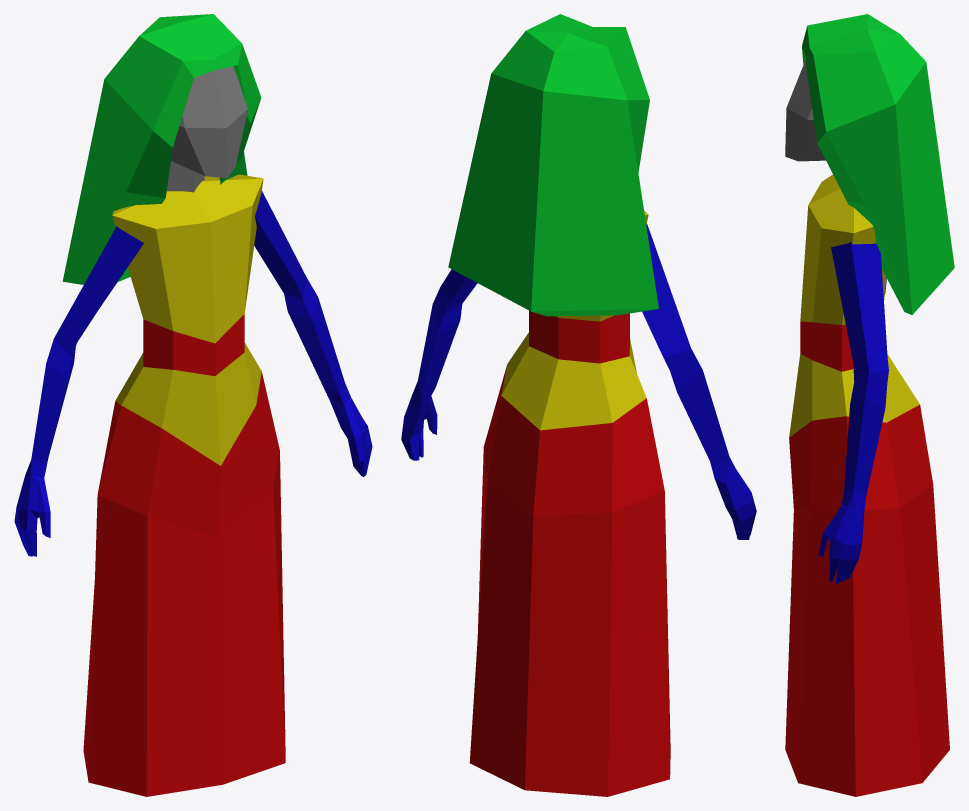
File: Character.fbx
3 views of the same model, side by side, from view 1: azimuth 30°, elevation 25°; view 2: azimuth 150°, elevation 25°; view 3: azimuth 270°, elevation 25° (orthographic).
Parts seen in each view (by area): view 1: Character; view 2: Character; view 3: Character.
Part boxes in pixels (x1,y1,x2,y2): Character: (14, 14, 372, 796); Character: (401, 14, 756, 796); Character: (785, 14, 954, 796).
Bounding box in the file's own units: 58.75 × 117 × 25.05.
